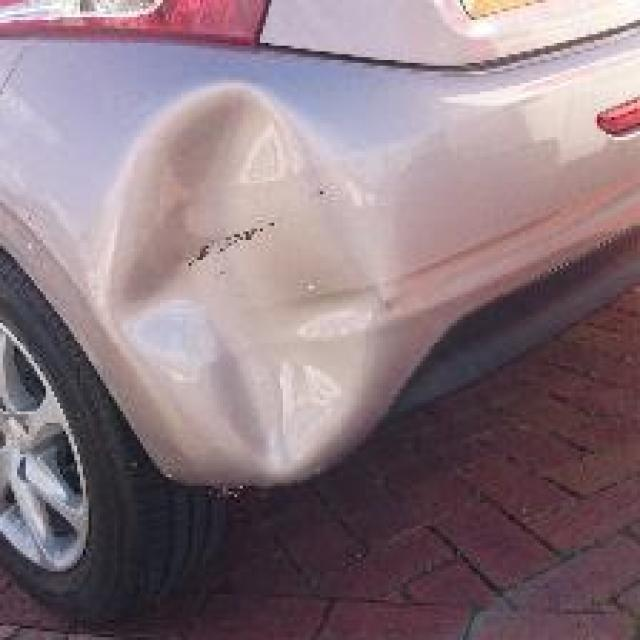damaged: (91, 77, 392, 500)
